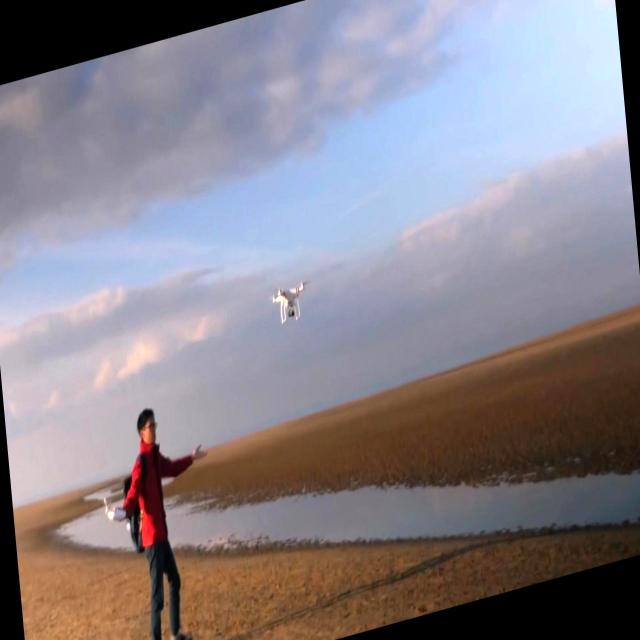drone: (266, 278, 309, 331)
